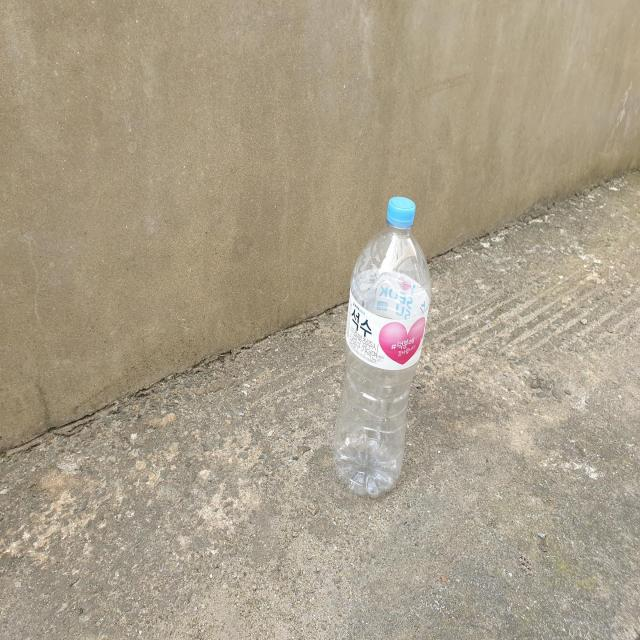plastic: (334, 196, 432, 497)
